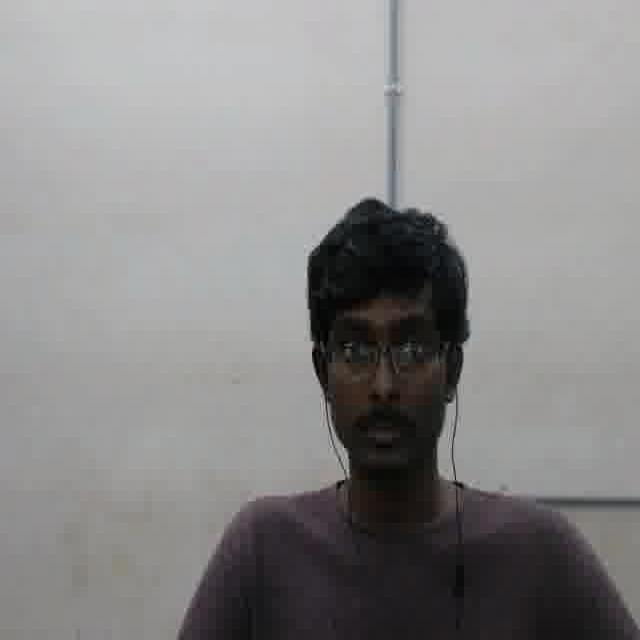Engaged: (322, 278, 442, 478)
